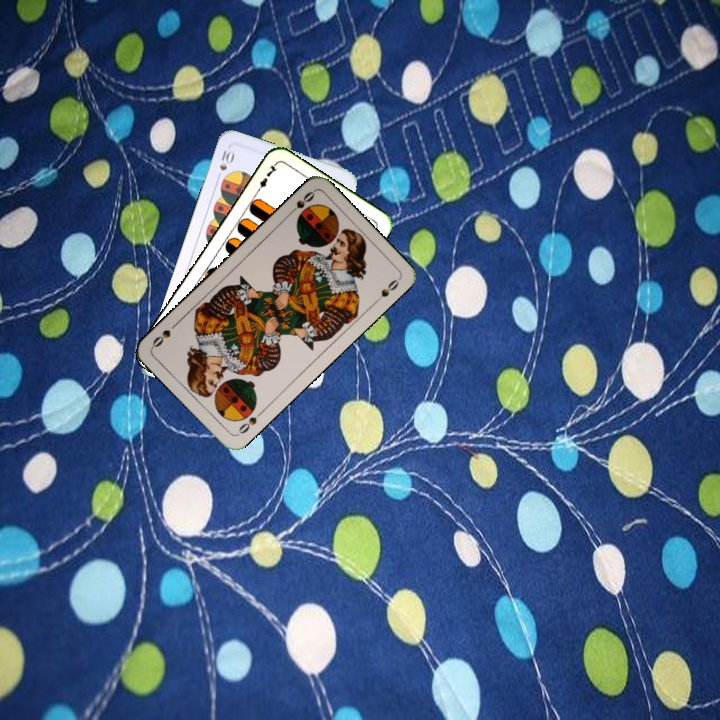E7: (252, 160, 280, 196)
S10: (213, 145, 237, 183)
SO: (234, 406, 266, 438), (284, 187, 317, 218)
